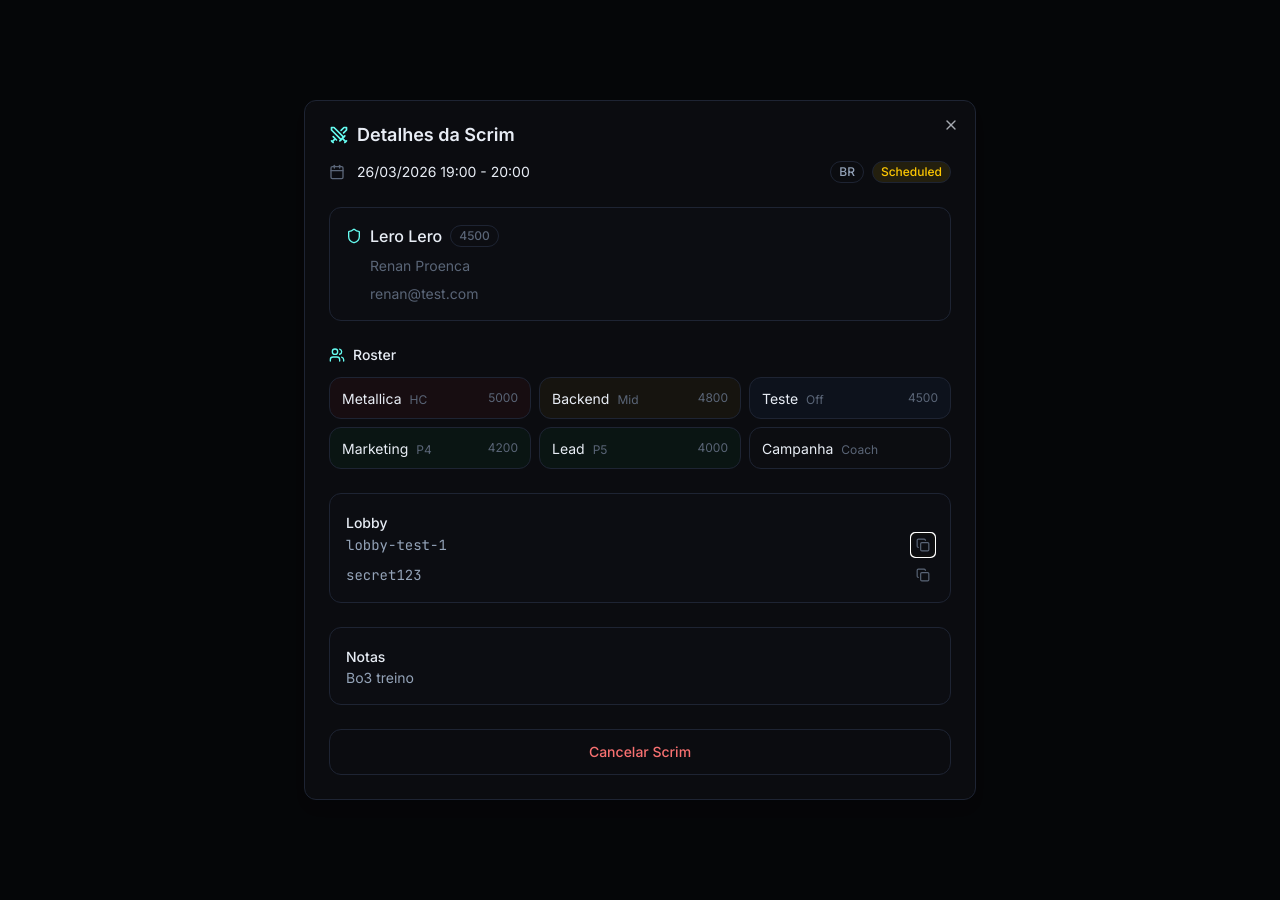
ScrimDetails › cancel scheduled scrim › enables confirm when reason is provided
The width and height of the screenshot is (1280, 900).
Click the button "Cancelar Scrim".
click(640, 752)  # box [329,729,951,775]
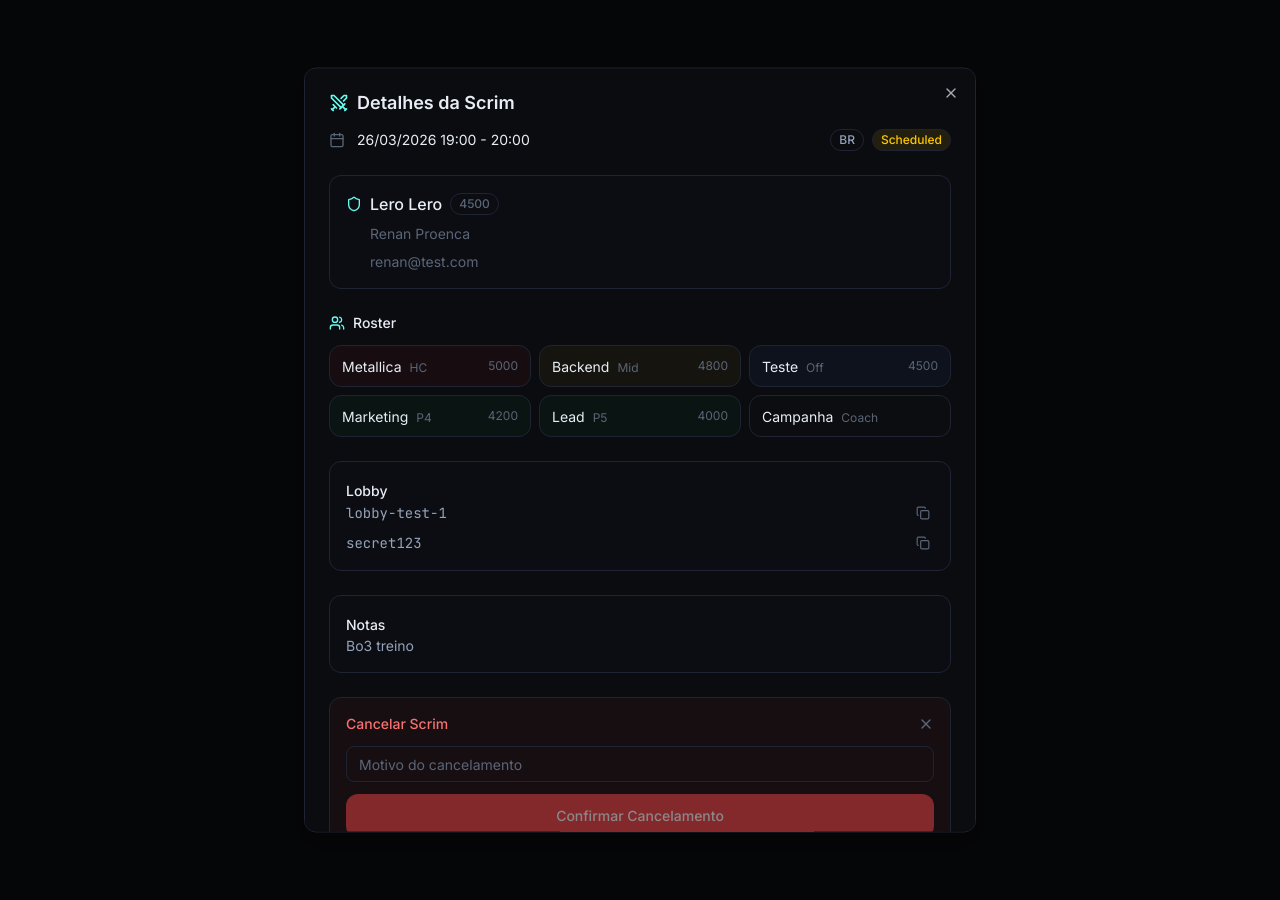
Type "Time desistiu" into the field with placeholder "Motivo do cancelamento".
click(640, 764); type("Time desistiu")  # box [346,746,934,782]
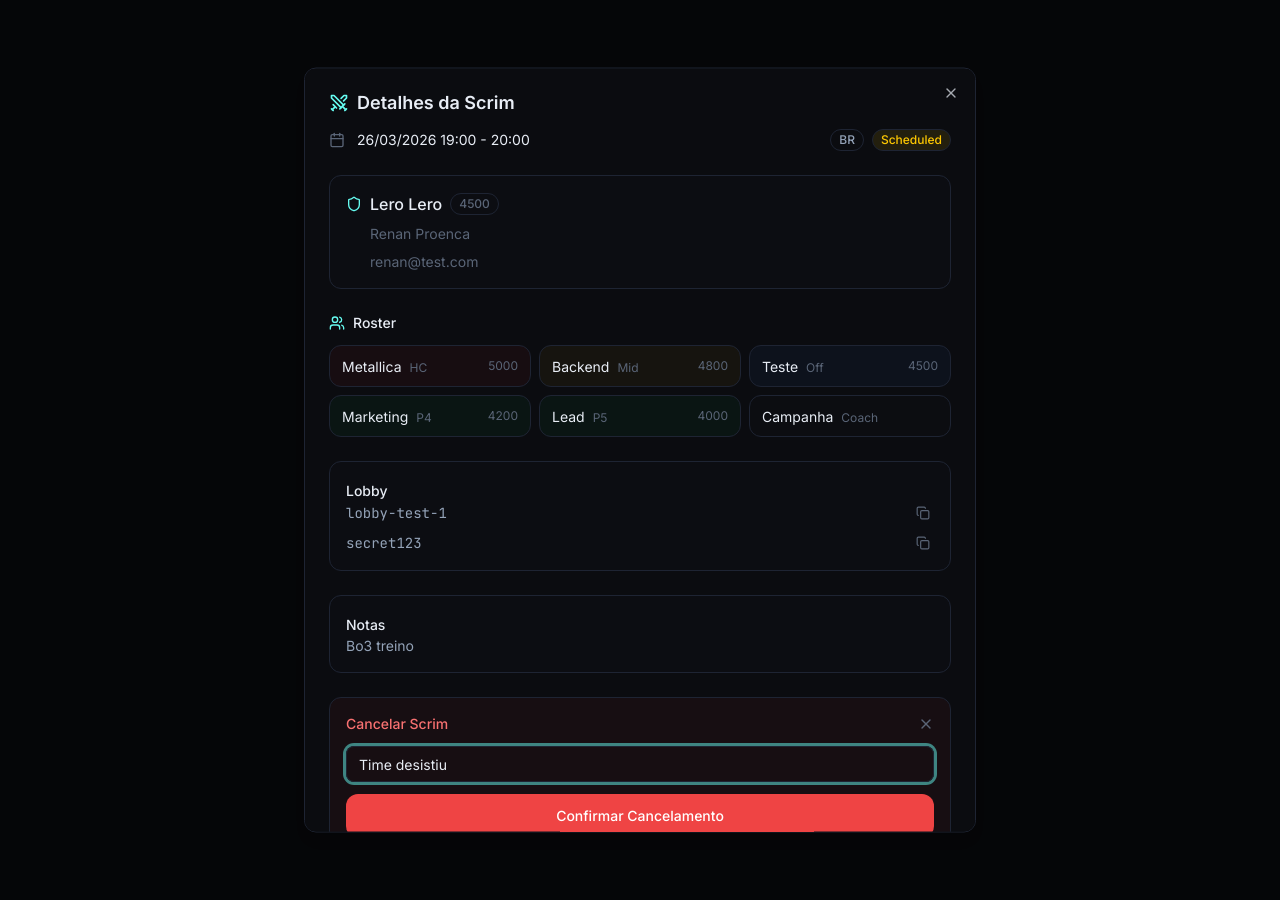
Check: the button "Confirmar Cancelamento" is enabled, box [346,794,934,832]
